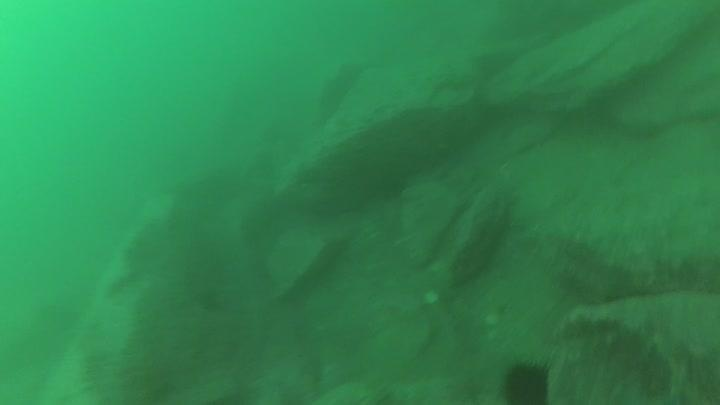echinus: (499, 357, 554, 405)
